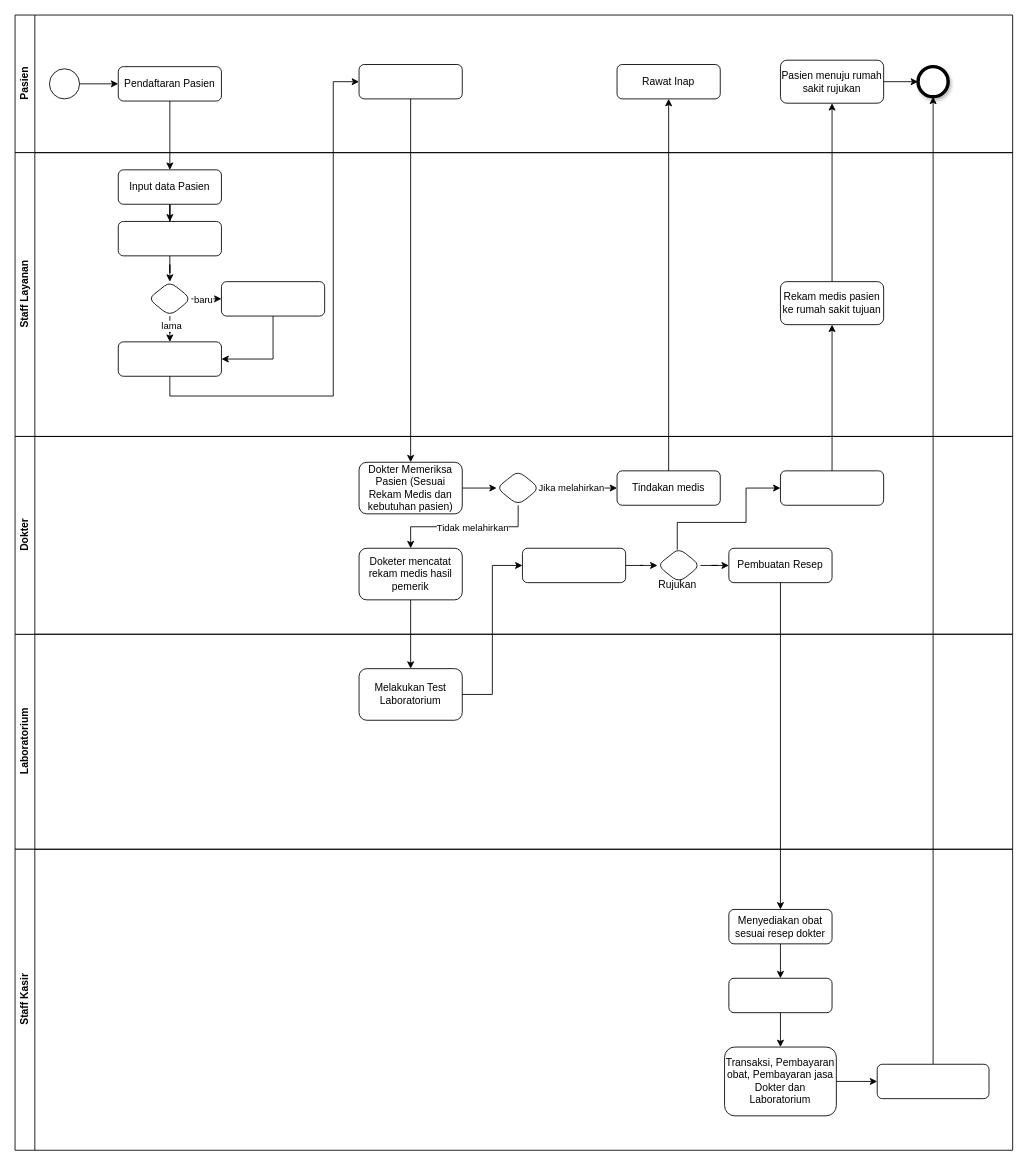
This 1028x1165 diagram has some shape labels left out. Each missing label, with the centre of its shape:
"Kasir mencatat setiap transaksi" belongs at pixel 932 1081.
"Membuat Surat Rujukan" belongs at pixel 832 487.
"Memriksa Jadwal Doker" belongs at pixel 169 358.
"Mencatat data obat" belongs at pixel 780 995.
"Pasien Menunggu" belongs at pixel 410 81.
"Pembuatan Rekam medis baru" belongs at pixel 273 298.
"Pemeriksaan hasil dari tes lab" belongs at pixel 574 565.
"Verifikasi data Pasien" belongs at pixel 169 238.
